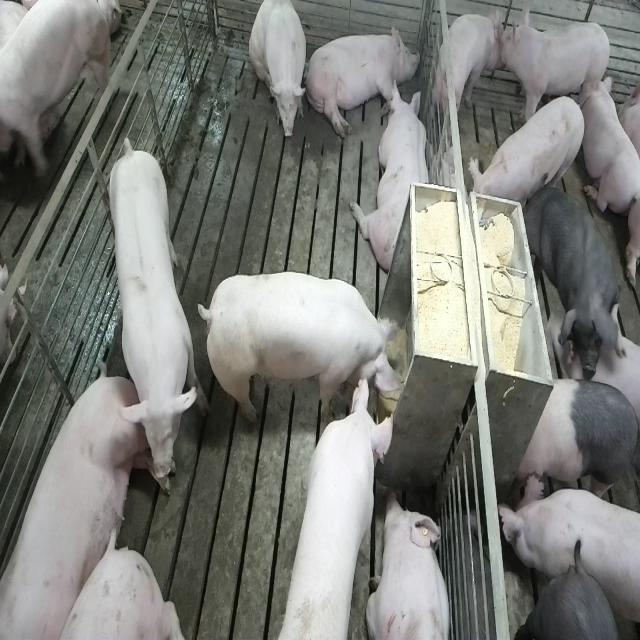Feeding: (198, 268, 408, 428), (277, 368, 393, 633)
Lateral_lying: (305, 22, 420, 140)
Sitting: (249, 1, 308, 146)
Standing: (103, 132, 200, 478), (498, 471, 638, 639), (0, 0, 115, 191), (524, 182, 623, 378), (513, 377, 638, 512), (472, 95, 589, 215), (498, 13, 612, 129), (514, 564, 629, 638), (436, 14, 504, 129)
Sternal_lying: (354, 80, 432, 274), (368, 492, 455, 640), (580, 72, 637, 220), (616, 66, 640, 154)
